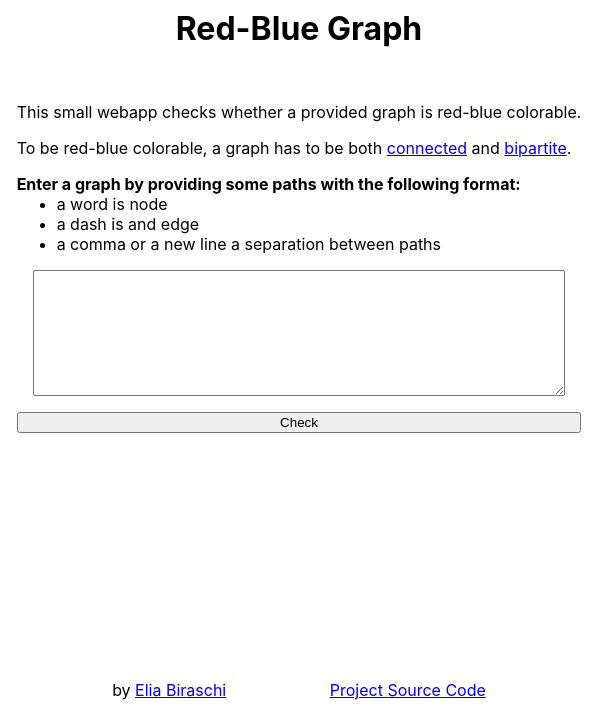
it: the fail-result should appear when providing a not connected graph
Type "a-b-c, d" into the text box at x=299, y=333, box [33,270,565,396]
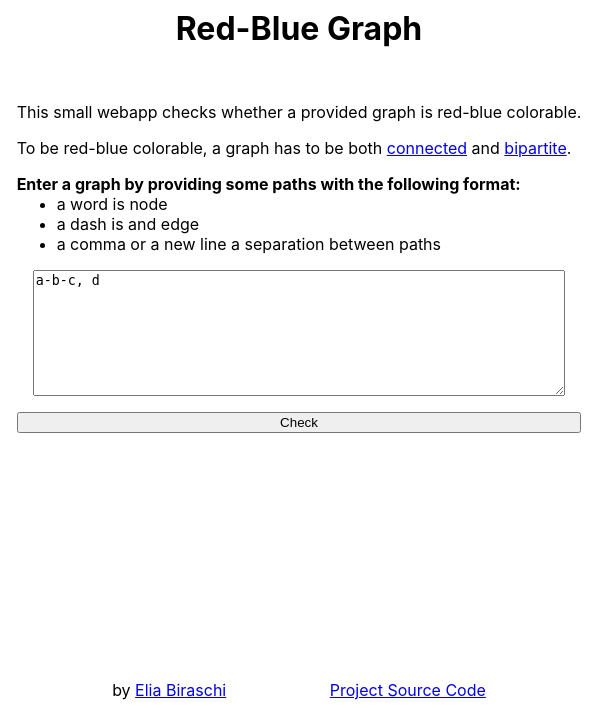
Click the button at x=299, y=422, box [17,412,581,433]
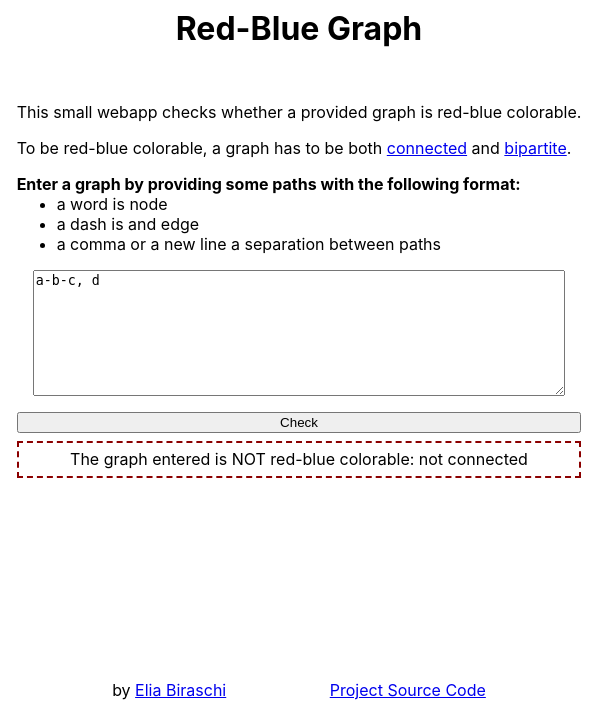
Check: the text "The graph entered is NOT red-blue colorable: not connected" is shown, box [17,441,581,478]
